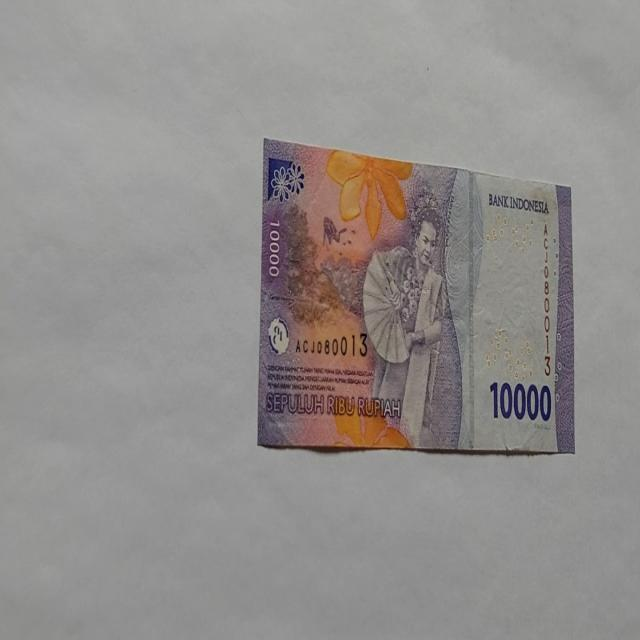sepuluh ribu rupiah: (256, 136, 574, 454)
